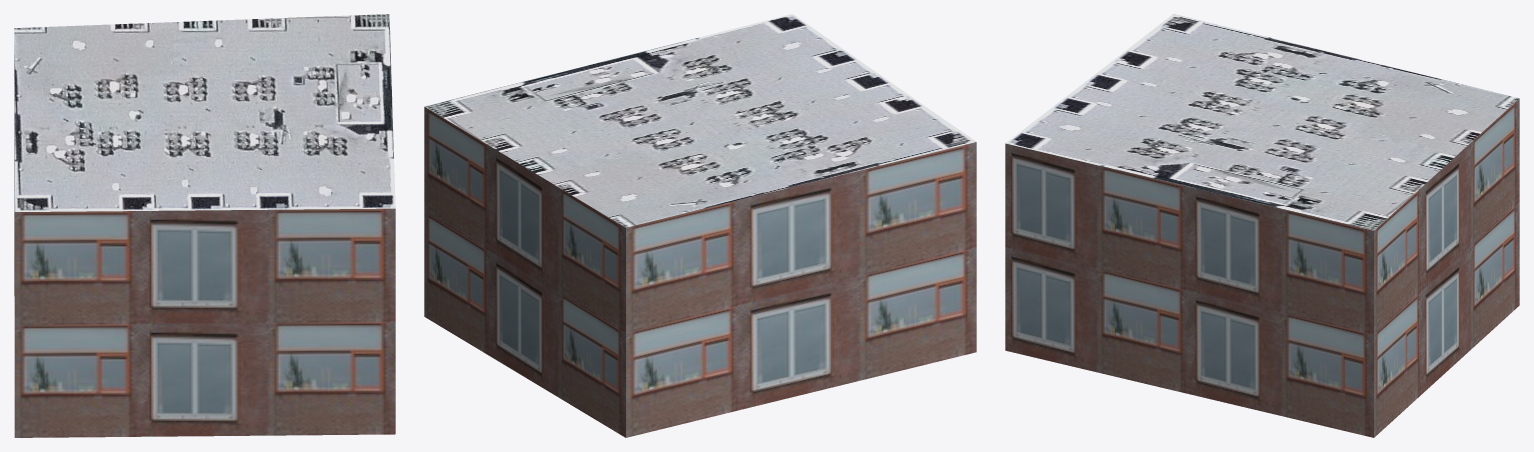
Rendered from ResTex__759.fbx.
3 renders of one model, left to right at view 1: azimuth 30°, elevation 25°; view 2: azimuth 150°, elevation 25°; view 3: azimuth 270°, elevation 25°, orthographic. The views are drawn at different scales.
Parts seen in each view (by area): view 1: CityEngineMaterial_19_m, CityEngineMaterial_15_m; view 2: CityEngineMaterial_19_m, CityEngineMaterial_15_m; view 3: CityEngineMaterial_19_m, CityEngineMaterial_15_m.
Part boxes in pixels (x1,y1,x2,y2): CityEngineMaterial_19_m: (14, 70, 395, 437); CityEngineMaterial_15_m: (14, 14, 395, 211); CityEngineMaterial_19_m: (424, 107, 976, 437); CityEngineMaterial_15_m: (424, 14, 975, 227); CityEngineMaterial_19_m: (1005, 98, 1519, 437); CityEngineMaterial_15_m: (1005, 14, 1518, 230).
Size of the model in its own units: 13.46 by 6 by 13.5.
Materials: 2 (2 with a texture image).
